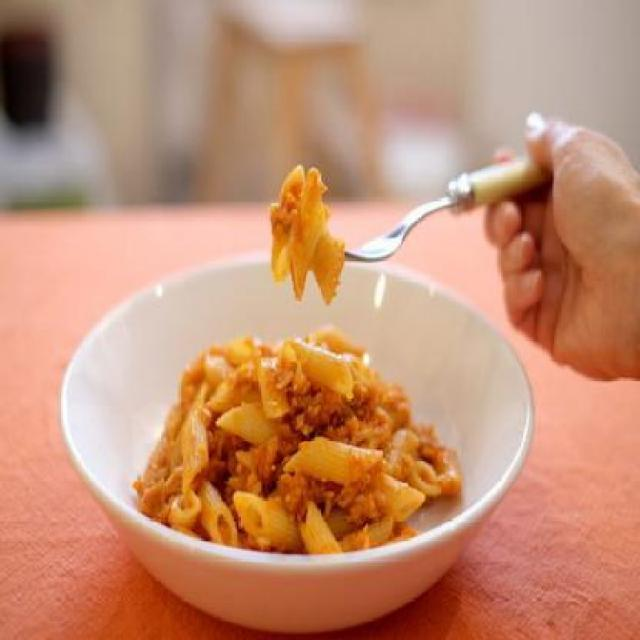Pasta al ragu: (144, 264, 473, 600)
